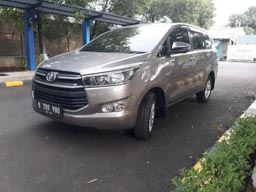plat: (34, 101, 60, 119)
